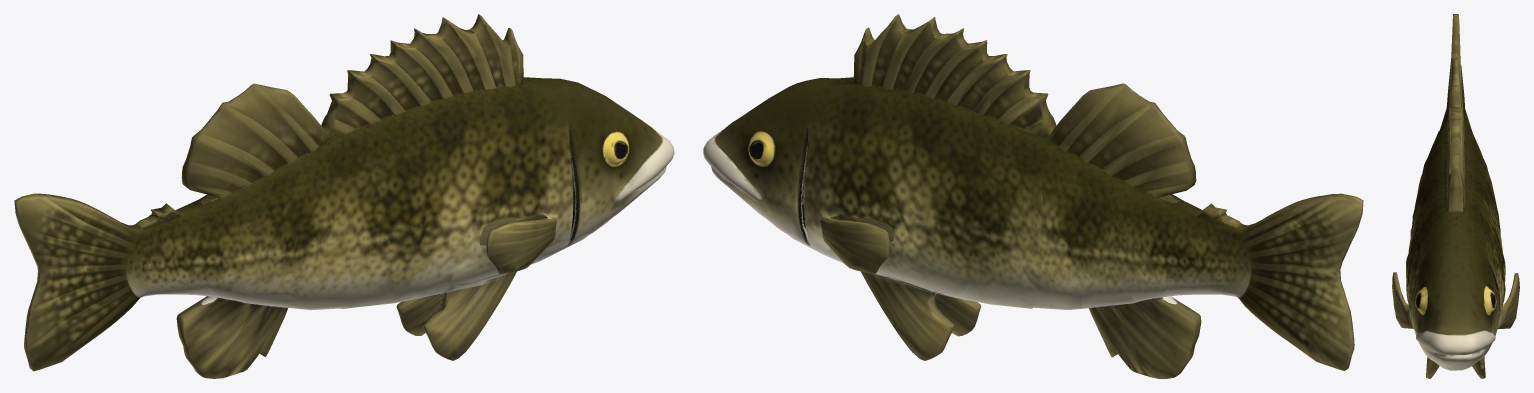
File: walleye.glb
3 views of the same model, side by side, from view 1: azimuth 30°, elevation 25°; view 2: azimuth 150°, elevation 25°; view 3: azimuth 270°, elevation 25° (orthographic). The views are drawn at different scales.
Parts seen in each view (by area): view 1: fish; view 2: fish; view 3: fish.
Part boxes in pixels (x1=…): fish: x1=14, y1=14, x2=674, y2=378; fish: x1=703, y1=14, x2=1363, y2=378; fish: x1=1392, y1=14, x2=1519, y2=378.
Bounding box in the file's own units: 0.9998 × 0.4799 × 0.2117.
1 material, 1 textured.
